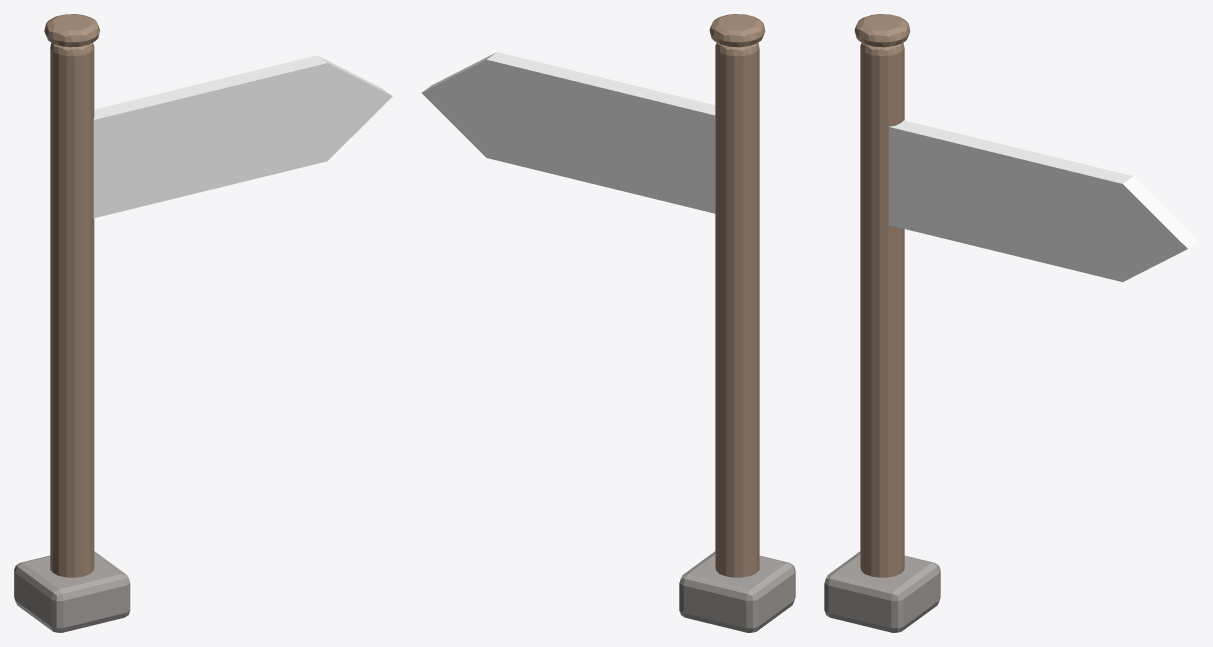
File: camp_signpost.glb
3 views of the same model, side by side, from view 1: azimuth 30°, elevation 25°; view 2: azimuth 150°, elevation 25°; view 3: azimuth 330°, elevation 25° (orthographic).
Parts seen in each view (by area): view 1: camp_signpost; view 2: camp_signpost; view 3: camp_signpost.
Boxes of the visible parts, bbox=[...] form: camp_signpost: bbox=[14, 14, 392, 632]; camp_signpost: bbox=[422, 14, 795, 632]; camp_signpost: bbox=[824, 14, 1198, 632].
Bounding box in the file's own units: 1.35 × 2.16 × 0.3.
